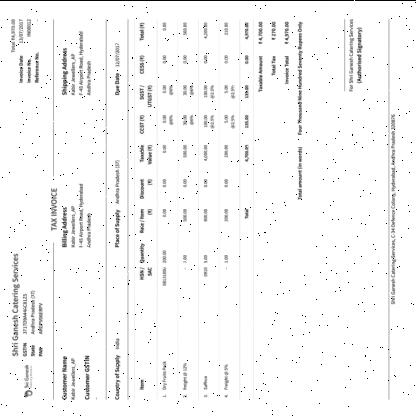Paragraph: (256, 20, 304, 136), (10, 252, 44, 358), (61, 29, 92, 96), (9, 17, 40, 83), (61, 183, 92, 248), (389, 112, 397, 305), (348, 18, 364, 92), (112, 158, 122, 248), (60, 354, 77, 400), (113, 336, 122, 400), (113, 41, 122, 95), (296, 144, 304, 199), (83, 353, 91, 400), (50, 187, 58, 231)
Table: (134, 19, 254, 399)
